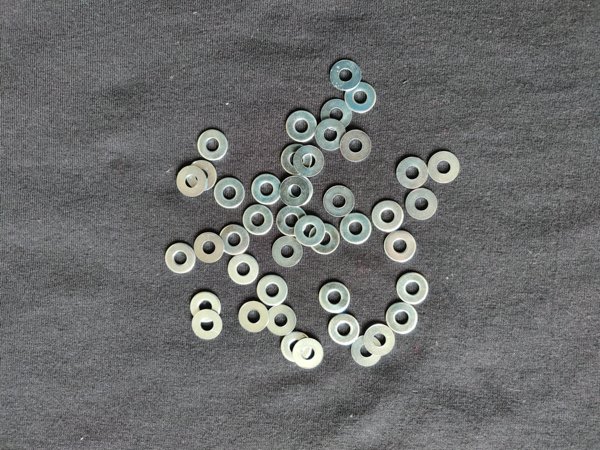circle: (428, 150, 461, 184), (396, 273, 430, 306), (397, 157, 430, 189), (280, 143, 313, 175), (386, 303, 419, 335), (329, 313, 361, 346), (406, 188, 438, 220), (330, 59, 362, 91), (372, 201, 404, 233), (293, 146, 325, 178), (385, 231, 417, 263), (319, 282, 351, 314), (351, 336, 383, 368), (286, 110, 319, 141), (197, 129, 228, 162), (345, 82, 377, 113), (341, 130, 372, 162), (321, 99, 353, 130), (324, 186, 356, 217), (340, 214, 372, 245), (218, 225, 250, 256), (227, 255, 259, 286), (189, 292, 221, 323), (280, 332, 312, 363), (364, 325, 396, 356), (316, 118, 346, 151), (309, 224, 340, 255), (243, 205, 274, 236), (272, 237, 303, 268), (238, 302, 269, 333), (293, 339, 324, 370), (294, 217, 326, 247), (165, 243, 195, 275), (191, 310, 223, 340), (187, 161, 217, 192), (277, 206, 307, 237), (283, 175, 314, 205), (215, 178, 245, 209), (194, 233, 224, 264), (257, 275, 287, 306), (267, 305, 297, 336), (176, 167, 206, 197), (280, 177, 310, 207), (251, 175, 281, 205)
